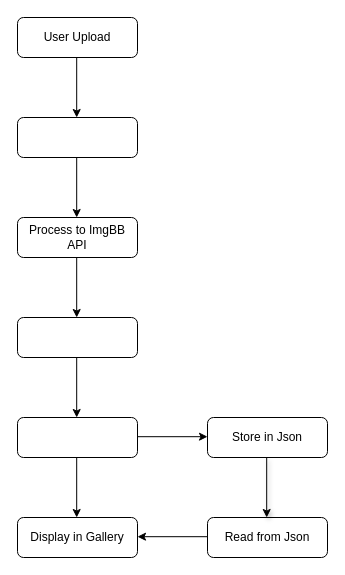
Some shapes in this 345 by 575 pixel diagram are drawn without their labels. Here are the shapes that lost their labels. From the top down, the centre of each, then its label:
(77,137): Flask server recevices
(77,337): ImgBB Cloud Storage
(77,437): Return Image URL
